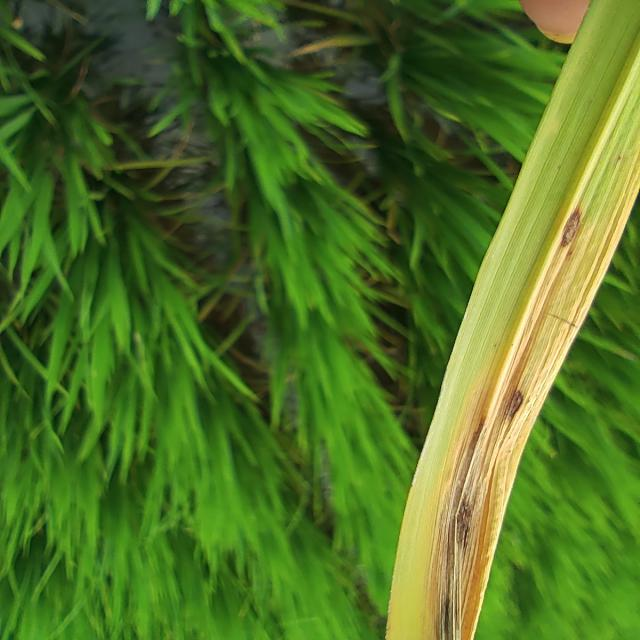Leaf_Blast: (428, 208, 602, 640)
